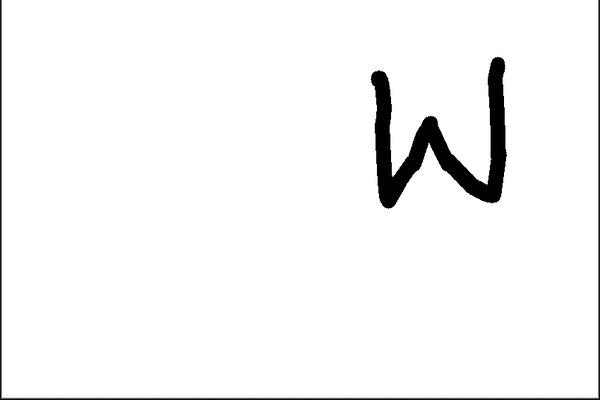w: (358, 48, 514, 222)
